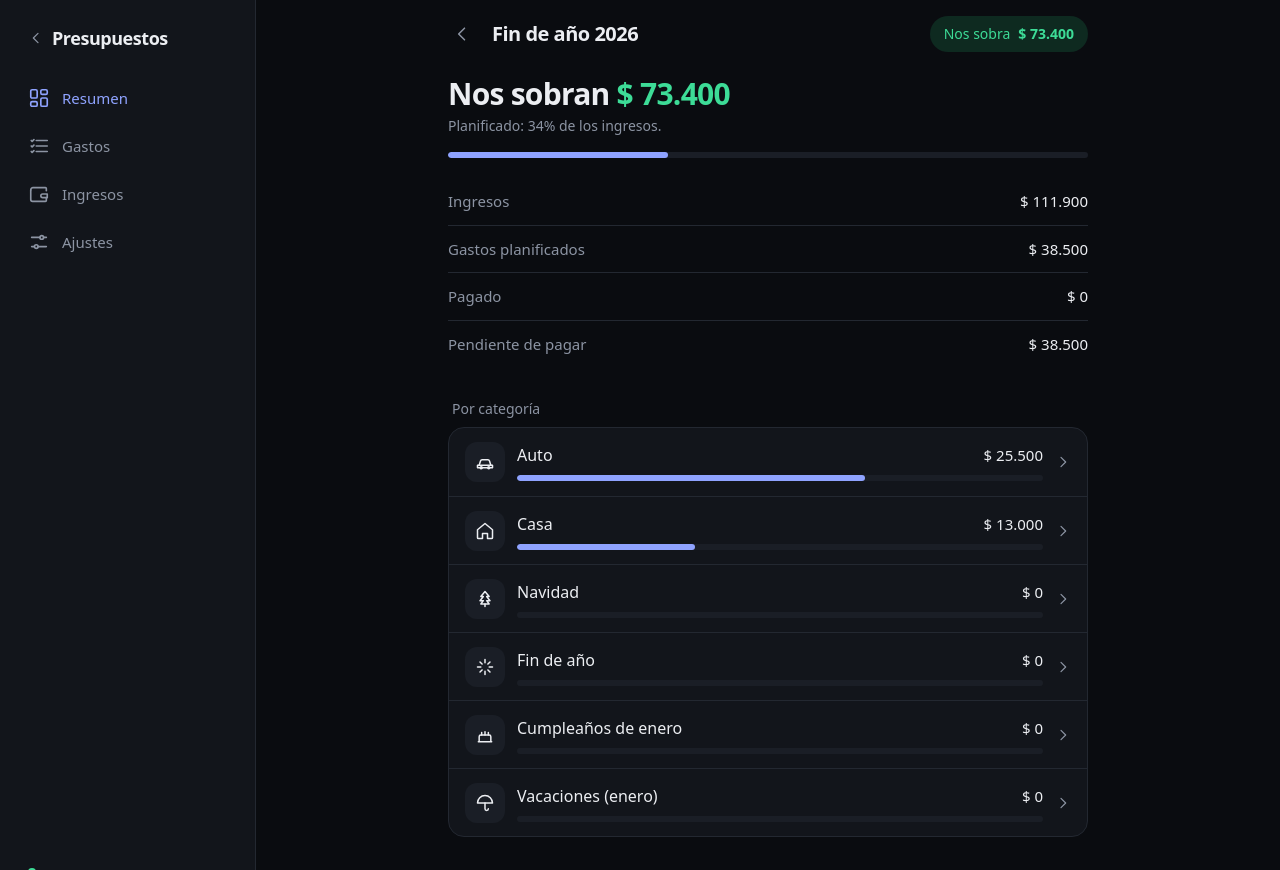
Test: navegación entre pantallas › la pestaña activa se marca con aria-current
Click the button "Gastos" at (128, 146), box [16,124,239,168]
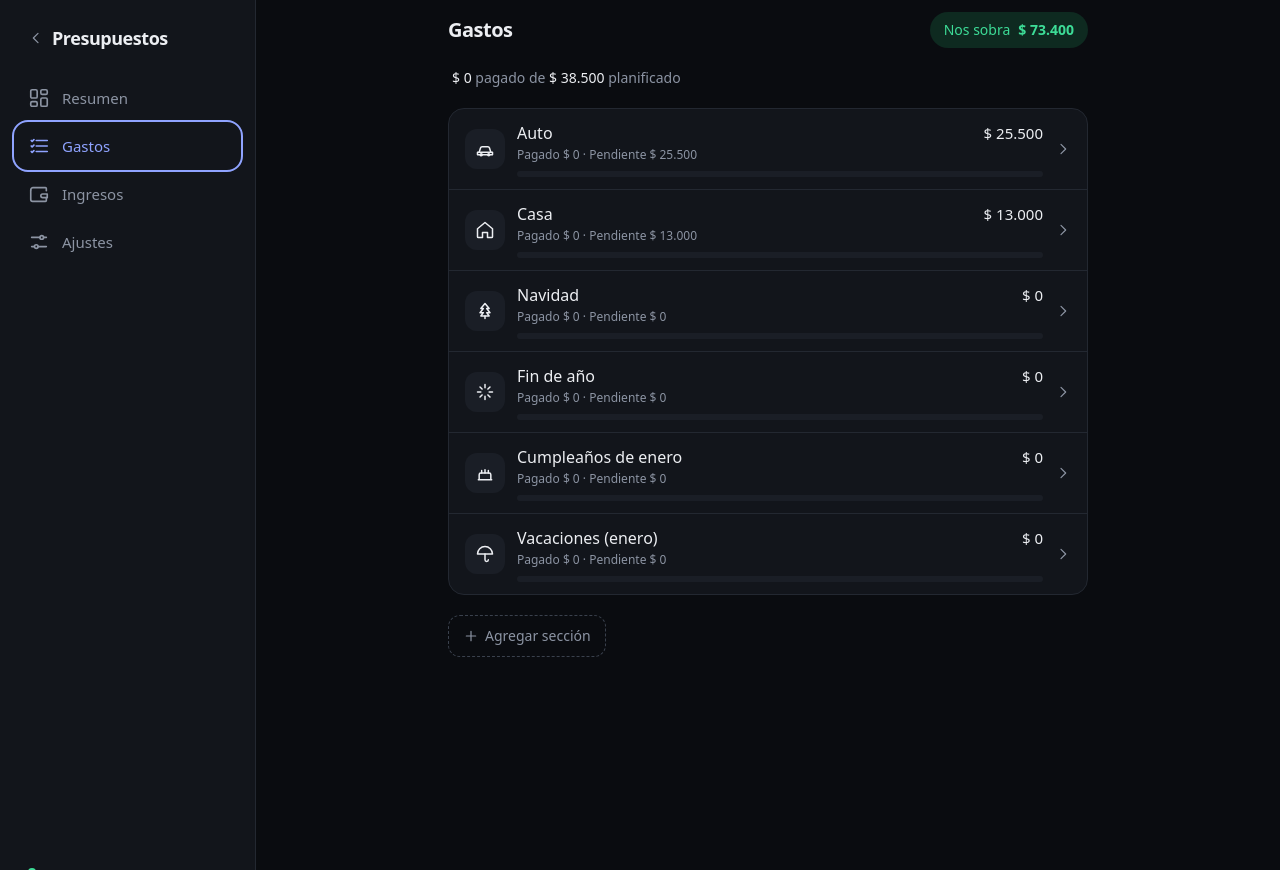
Expected: the button "Gastos" is marked as current, [16,124,239,168]
Expected: the button "Resumen" does not have attribute aria-current, [16,76,239,120]
